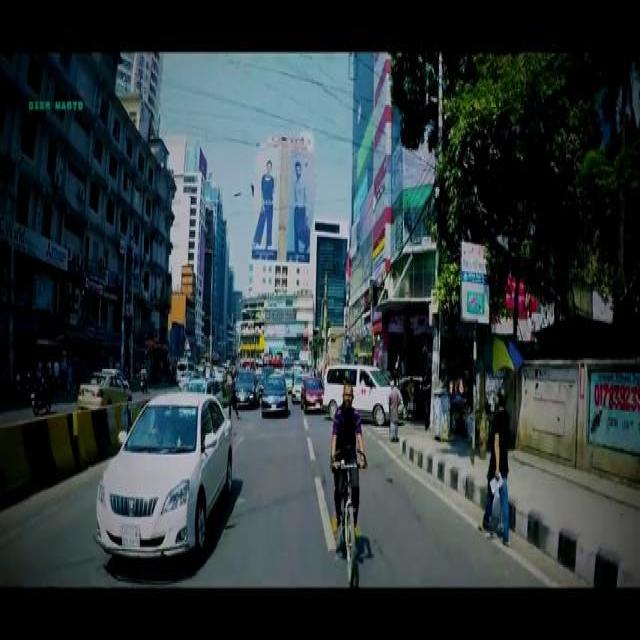bicycle: (328, 443, 366, 580)
car: (94, 390, 234, 554), (76, 369, 130, 406), (258, 371, 288, 412), (234, 367, 256, 405), (300, 375, 322, 411)
minivan: (323, 363, 403, 423)
motorbike: (28, 380, 52, 412), (137, 371, 147, 390)
van: (174, 356, 192, 379)
